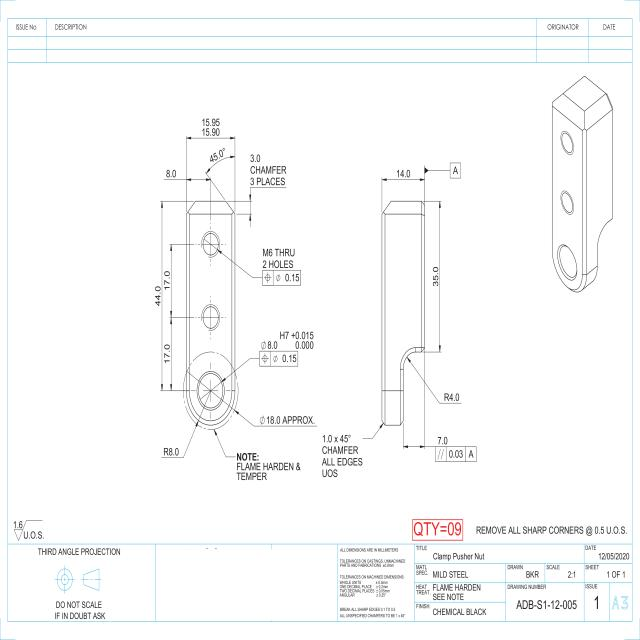dimension: (322, 432, 364, 478), (249, 153, 287, 186), (261, 330, 314, 350), (261, 247, 296, 269), (258, 414, 316, 426), (200, 116, 221, 136), (209, 146, 227, 164), (153, 284, 162, 308), (162, 446, 180, 457), (443, 392, 461, 403), (163, 269, 171, 292), (163, 343, 171, 365), (432, 265, 439, 288), (396, 168, 412, 178), (436, 434, 448, 446), (165, 169, 177, 179)
